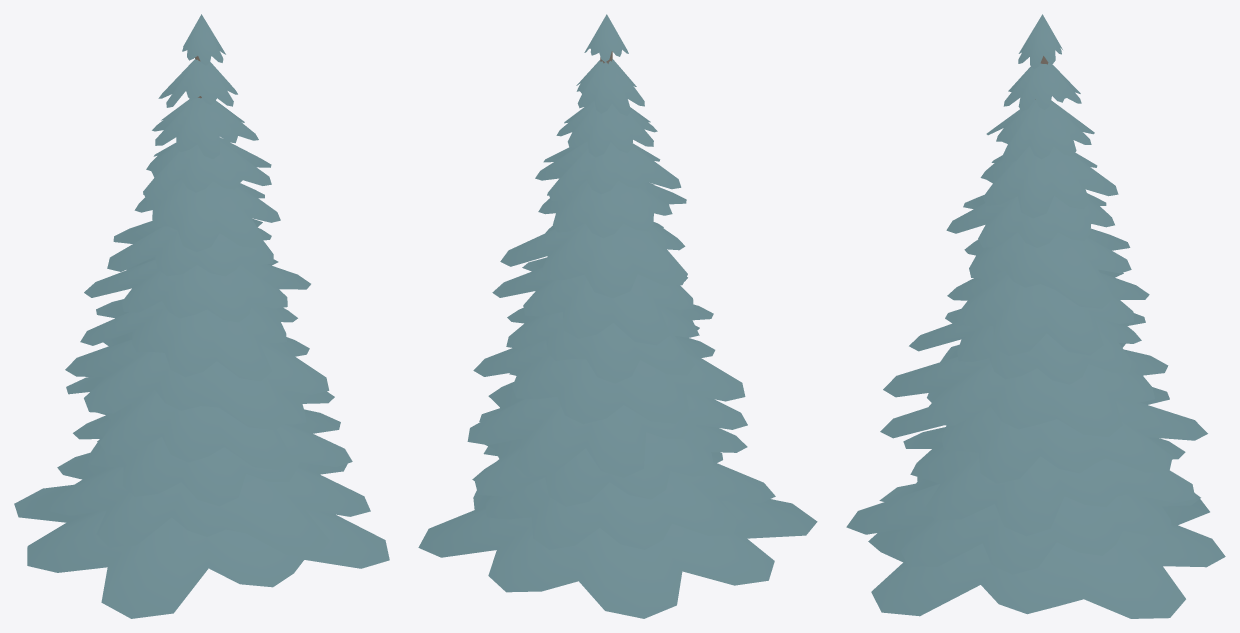
Rendered from Blender_BlueSpruce_1.glb.
3 renders of one model, left to right at view 1: azimuth 30°, elevation 25°; view 2: azimuth 150°, elevation 25°; view 3: azimuth 270°, elevation 25°, orthographic. The views are drawn at different scales.
Parts seen in each view (by area): view 1: Blender_BlueSpruce_1; view 2: Blender_BlueSpruce_1; view 3: Blender_BlueSpruce_1.
Part boxes in pixels (bbox=[...]): Blender_BlueSpruce_1: bbox=[14, 14, 389, 618]; Blender_BlueSpruce_1: bbox=[418, 14, 817, 618]; Blender_BlueSpruce_1: bbox=[846, 14, 1225, 618].
Size of the model in its own units: 10.89 by 17.89 by 11.3.
